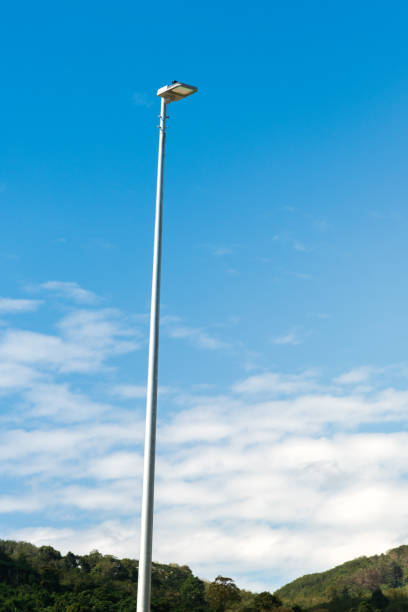light_pole: (131, 104, 170, 612)
